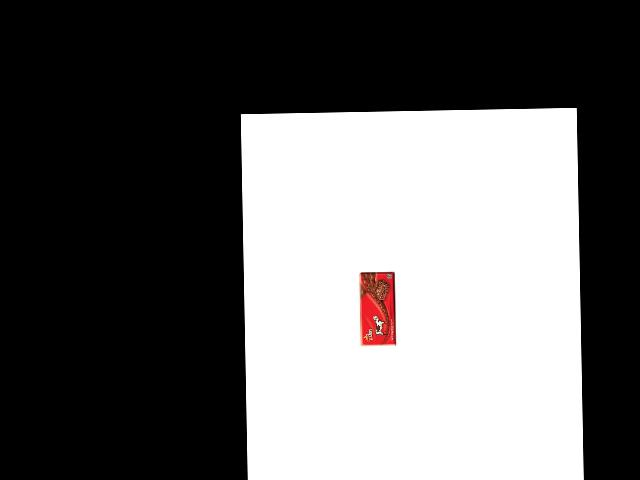chocolate: (357, 269, 400, 348)
